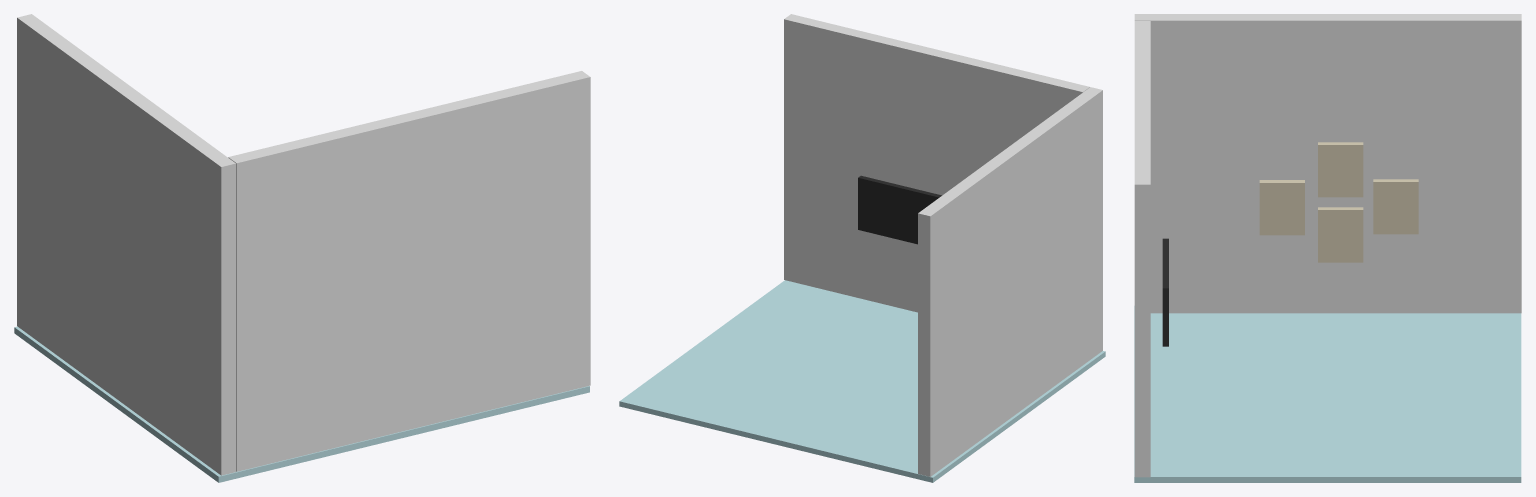
The model's file is room.glb.
3 renders of one model, left to right at view 1: azimuth 30°, elevation 25°; view 2: azimuth 150°, elevation 25°; view 3: azimuth 270°, elevation 25°, orthographic. The views are drawn at different scales.
Visible parts, largest first — view 1: Wall.001, Wall, Floor; view 2: Wall, Wall.001, Floor, Monitor Screen; view 3: Wall, Floor, Wall.001, Picture Frame.001, Picture Frame, Picture Frame.003, Picture Frame.002, Monitor Screen.
Boxes of the visible parts, box(x1,y1,x2,y2) form: Wall.001: box(228, 71, 590, 471); Wall: box(17, 14, 235, 475); Floor: box(14, 326, 589, 482); Wall: box(918, 87, 1102, 476); Wall.001: box(784, 14, 1089, 312); Floor: box(619, 280, 1105, 482); Monitor Screen: box(858, 175, 941, 244); Wall: box(1134, 14, 1521, 313); Floor: box(1134, 306, 1521, 482); Wall.001: box(1134, 21, 1150, 477); Picture Frame.001: box(1318, 207, 1363, 262); Picture Frame: box(1373, 179, 1418, 234); Picture Frame.003: box(1259, 180, 1304, 235); Picture Frame.002: box(1318, 142, 1363, 197); Monitor Screen: box(1162, 238, 1168, 346).
Bounding box in the file's own units: 12.62 × 10.21 × 12.01.
